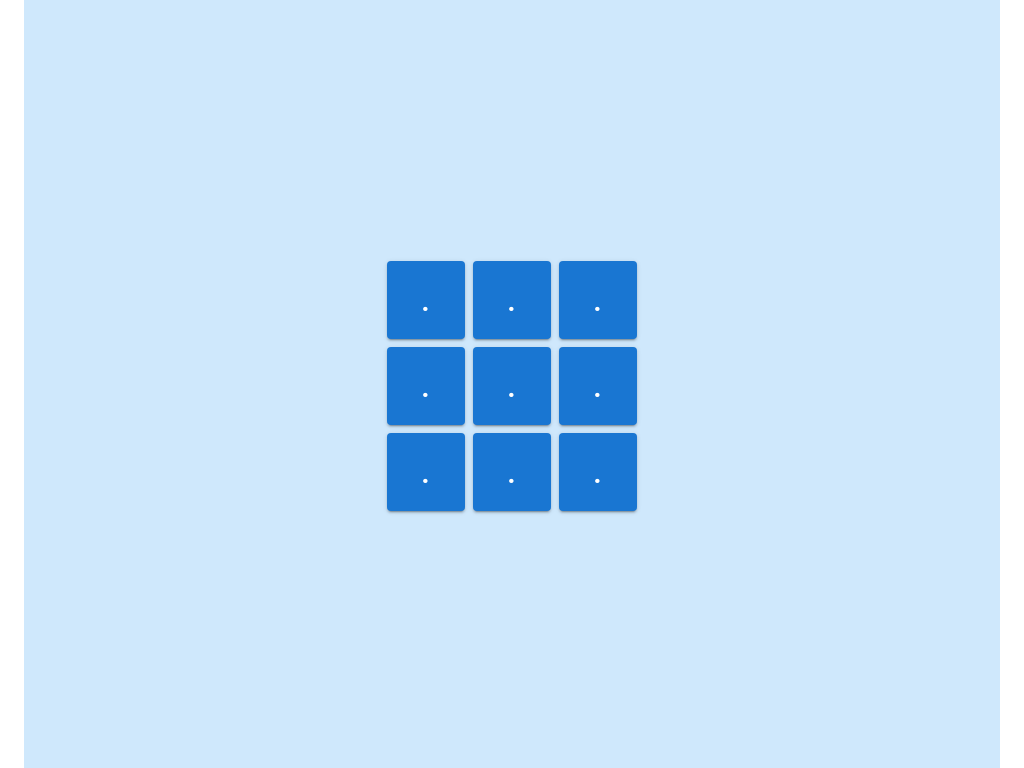
Test: Tris › allows players to take turns and updates the board accordingly
The width and height of the screenshot is (1024, 768).
Click the 1st button ".".
click(426, 300)  # box [387, 261, 465, 339]
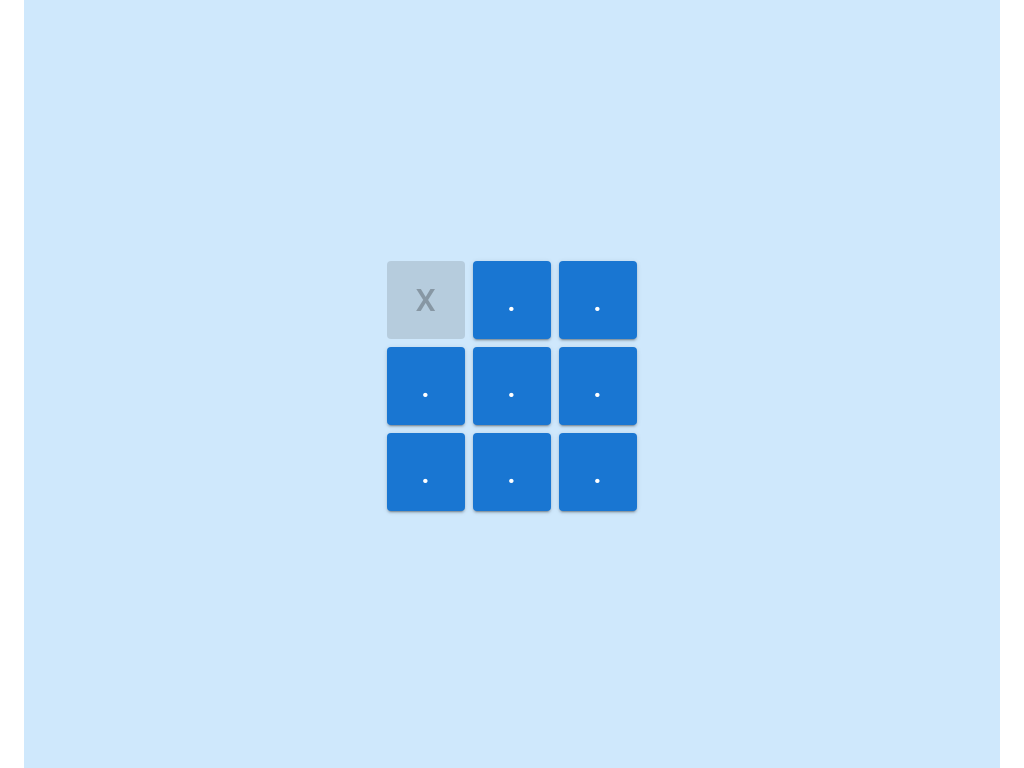
Expected: the button "x" is shown, [387, 261, 465, 339]
Click the 1st button ".".
click(512, 300)  # box [473, 261, 551, 339]
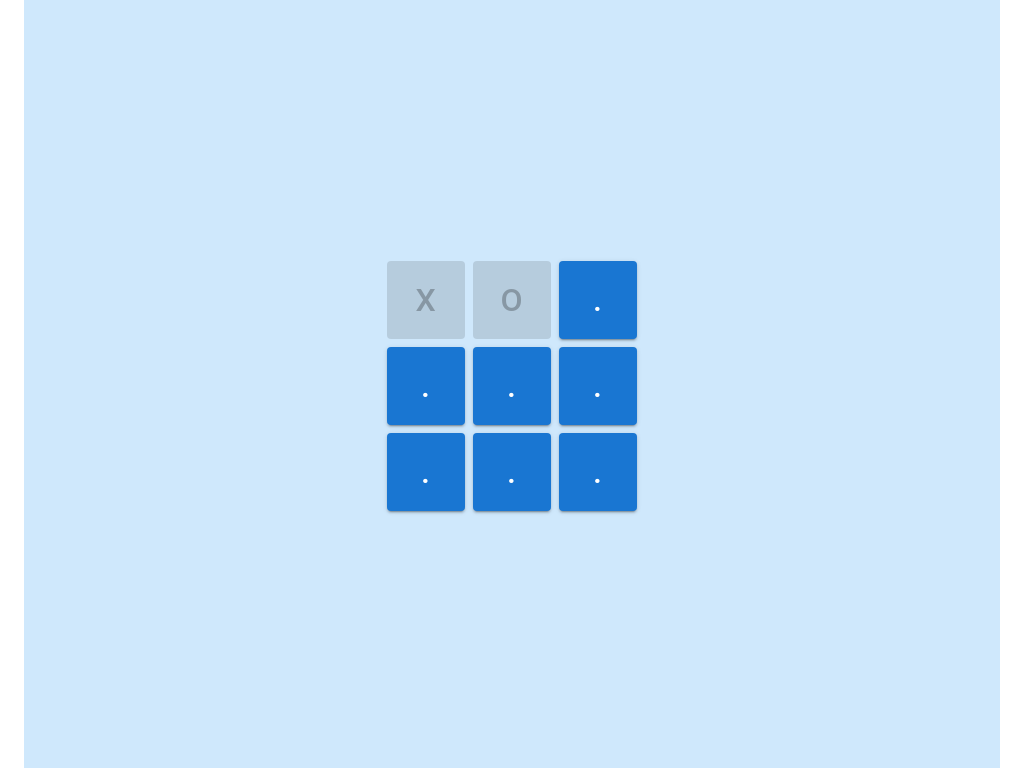
Expected: the button "o" is shown, [473, 261, 551, 339]
Click the 2nd button ".".
click(426, 386)  # box [387, 347, 465, 425]
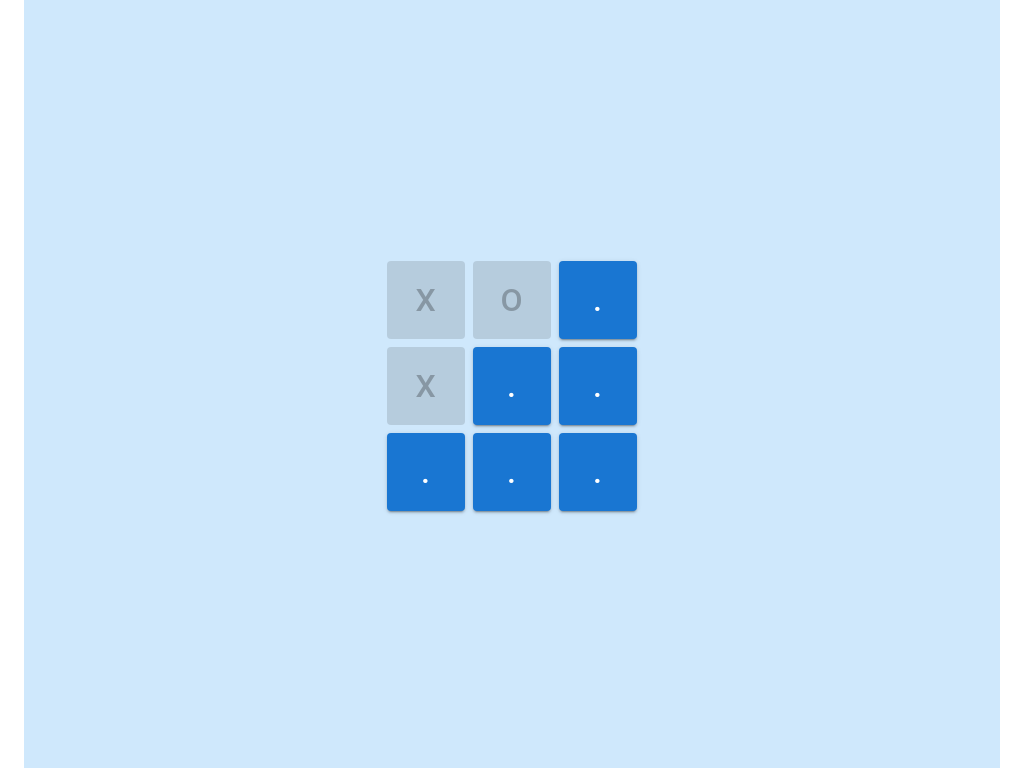
Expected: the 2nd button "x" is shown, [387, 347, 465, 425]
